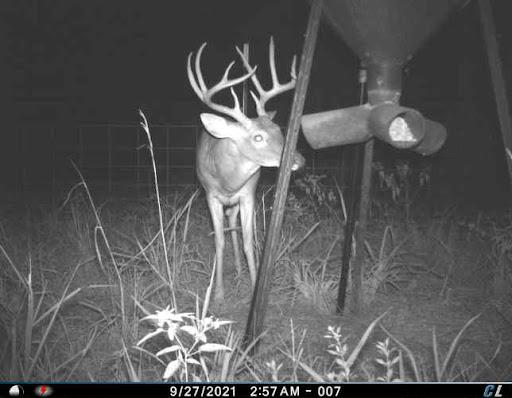Deer: (180, 32, 313, 319)
